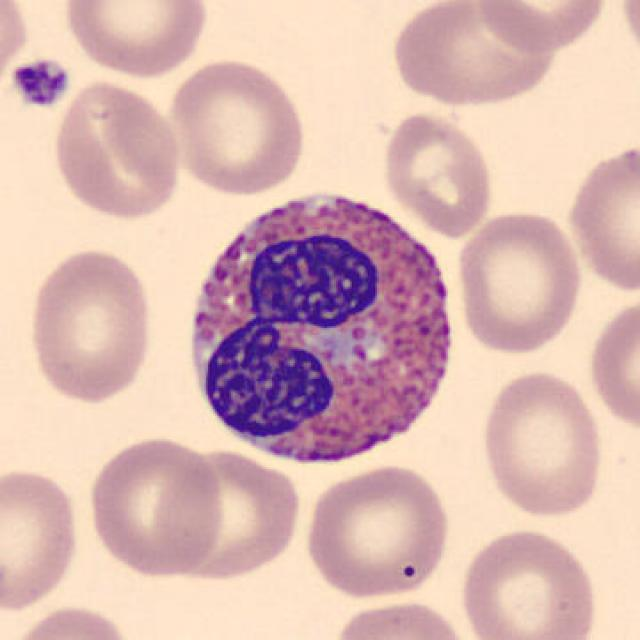Eosinophil: (176, 169, 469, 482)
Platelets: (7, 55, 75, 111)
RBC: (23, 243, 158, 408), (84, 432, 228, 580), (301, 462, 454, 601), (163, 54, 310, 198), (476, 367, 606, 522), (162, 444, 304, 584), (453, 206, 585, 356), (48, 78, 185, 222), (387, 0, 558, 109), (455, 523, 602, 640), (379, 108, 496, 238), (0, 462, 84, 615), (58, 0, 211, 79), (564, 139, 638, 296), (585, 293, 640, 437), (473, 0, 611, 55), (327, 596, 475, 640), (3, 601, 138, 640), (0, 0, 34, 97), (617, 0, 640, 74)
